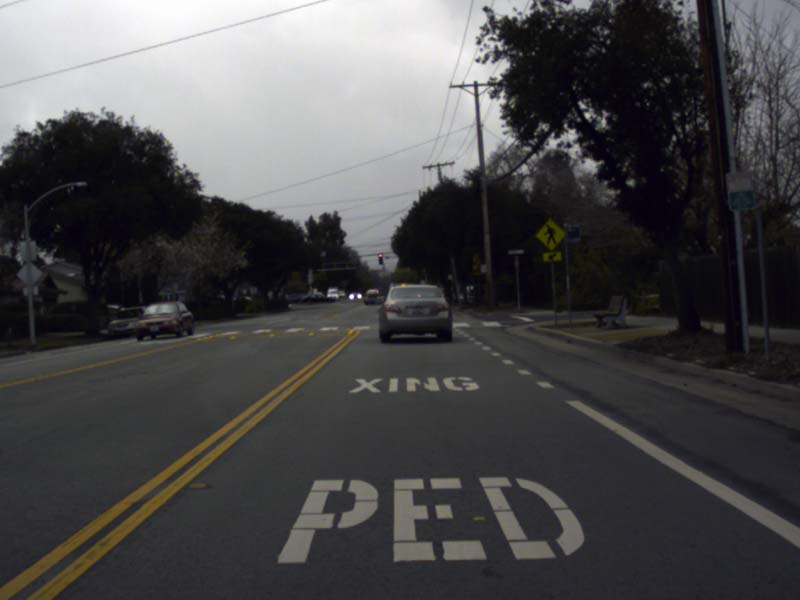Red: (378, 252, 382, 264)
